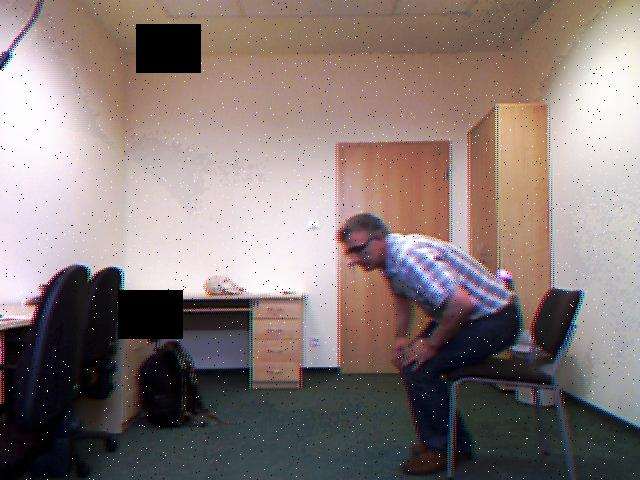near-fall: (328, 205, 541, 480)
